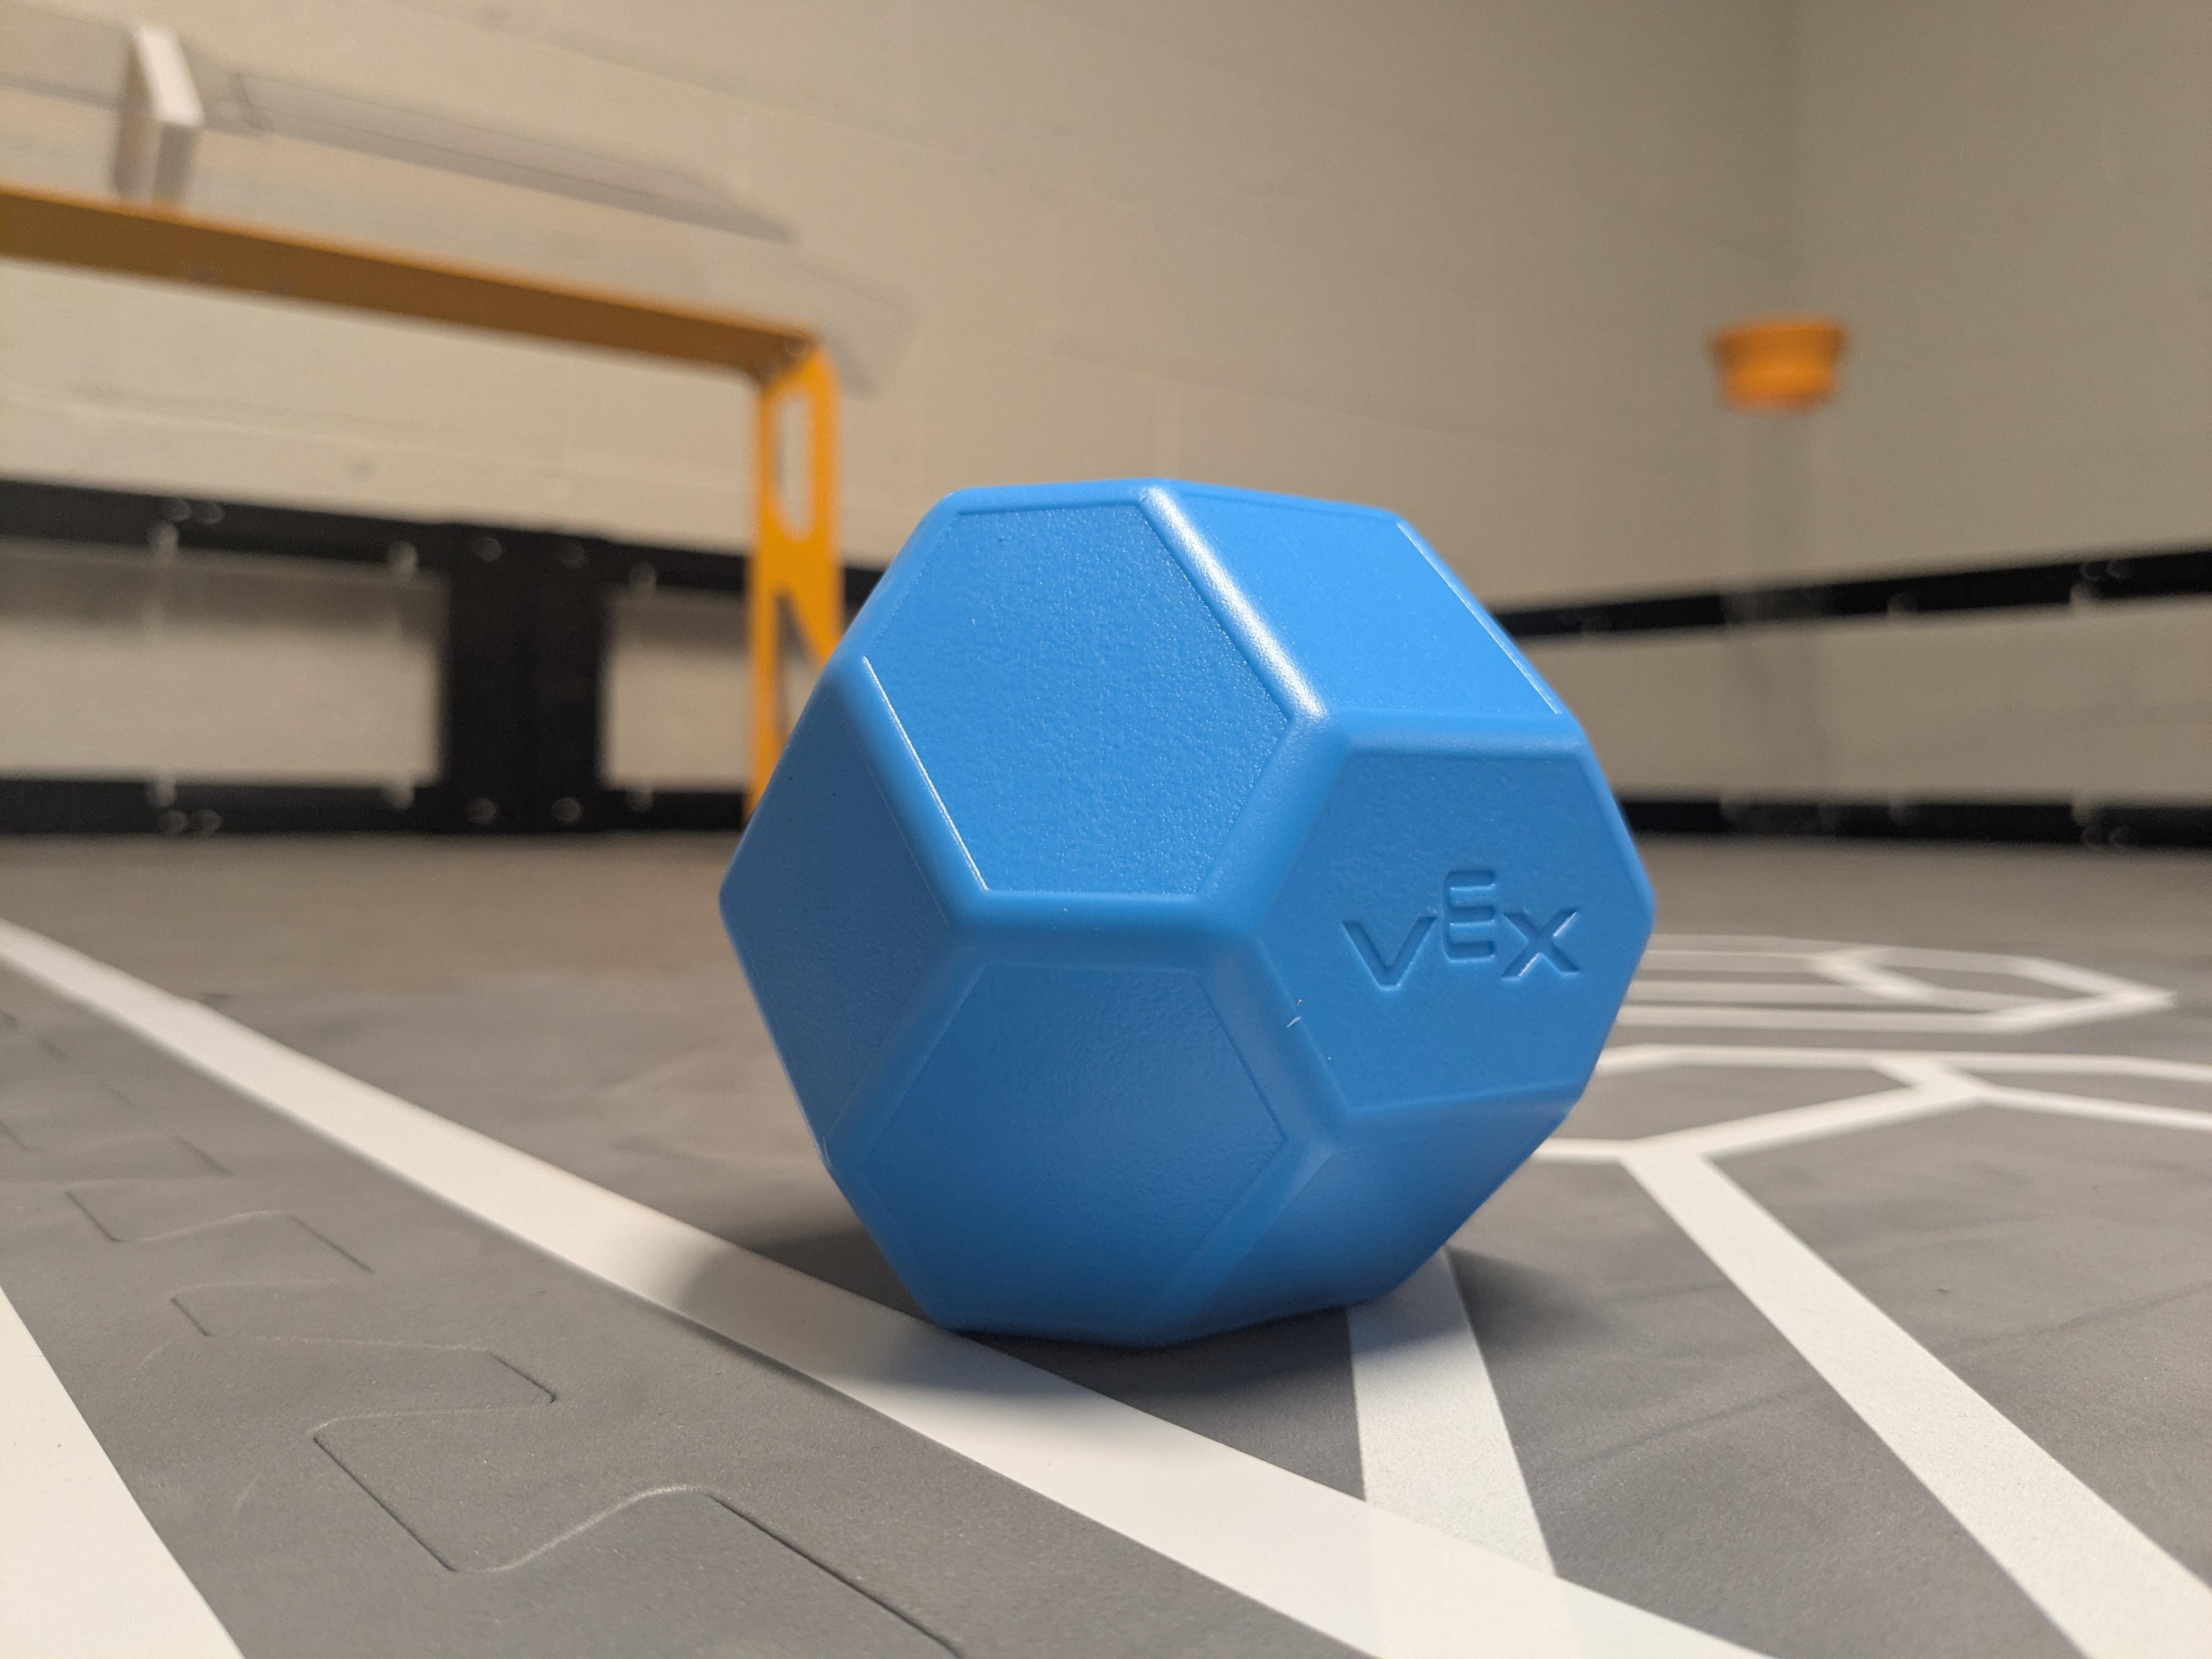Vex-Pieces-BLUE: (723, 481, 1653, 1344)
